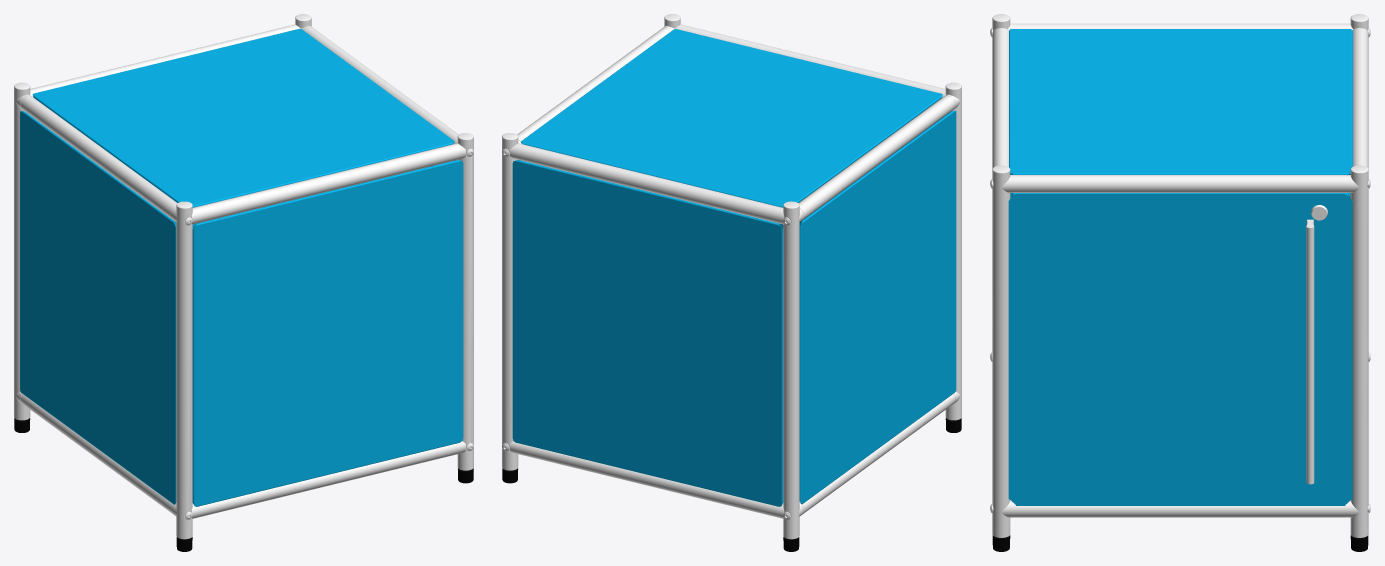
File: 40x40x40-2-6-blue_optimized_optimized.glb
3 views of the same model, side by side, from view 1: azimuth 30°, elevation 25°; view 2: azimuth 150°, elevation 25°; view 3: azimuth 270°, elevation 25° (orthographic). The views are drawn at different scales.
Parts seen in each view (by area): view 1: 直角鐵板-40x40-5 - 零件, 反-鐵管-40-354..4-1 - 零件, 圓形腳+調整器-1 - 零件; view 2: 直角鐵板-40x40-5 - 零件, 反-鐵管-40-354..4-1 - 零件, 圓形腳+調整器-1 - 零件; view 3: 直角鐵板-40x40-5 - 零件, 反-鐵管-40-354..4-1 - 零件, 圓形腳+調整器-1 - 零件.
Part boxes in pixels (x1,y1,x2,y2): 直角鐵板-40x40-5 - 零件: (20, 28, 463, 506); 反-鐵管-40-354..4-1 - 零件: (14, 14, 473, 539); 圓形腳+調整器-1 - 零件: (14, 418, 473, 551); 直角鐵板-40x40-5 - 零件: (512, 29, 956, 506); 反-鐵管-40-354..4-1 - 零件: (502, 14, 961, 539); 圓形腳+調整器-1 - 零件: (502, 418, 961, 551); 直角鐵板-40x40-5 - 零件: (1008, 29, 1352, 505); 反-鐵管-40-354..4-1 - 零件: (990, 14, 1370, 537); 圓形腳+調整器-1 - 零件: (992, 535, 1368, 551).
Size of the model in its own units: 0.4203 by 0.4453 by 0.4035.
